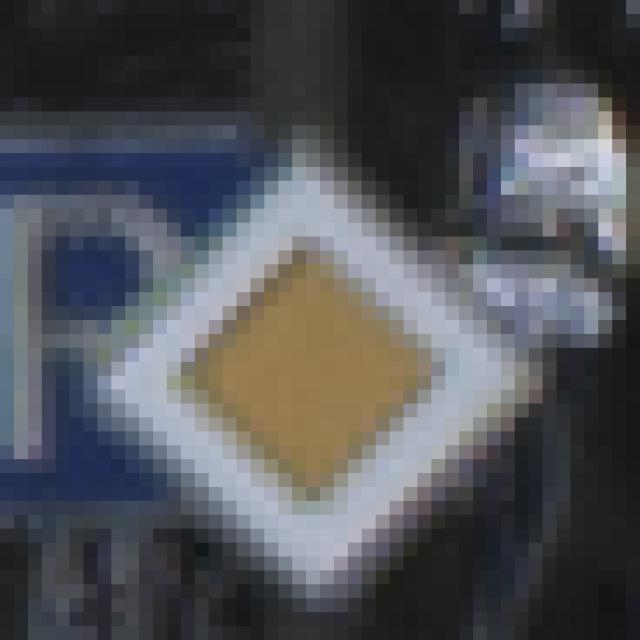Main Road: (85, 85, 572, 572)
